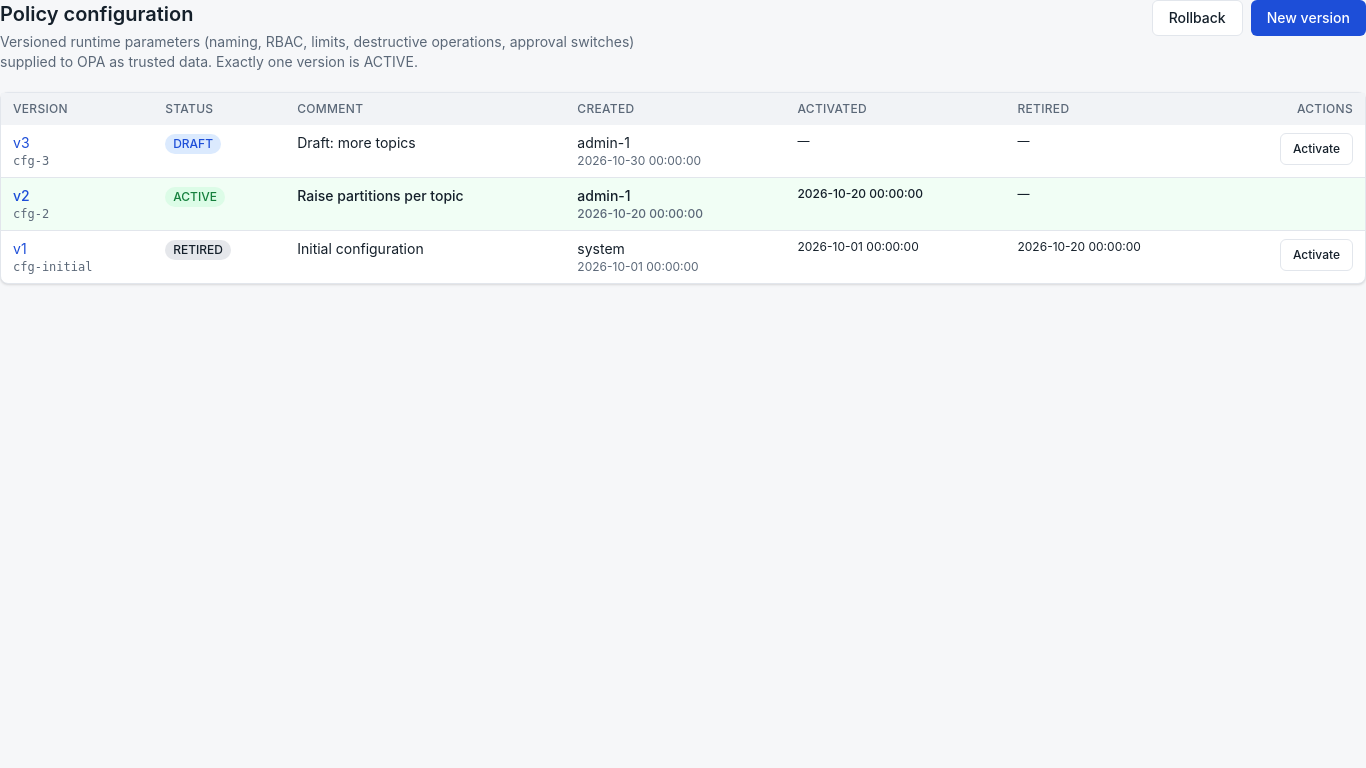
PolicyConfigPage › lets an admin activate a draft after reviewing the diff
This screenshot has width=1366, height=768.
Expected: the link "v3" is shown, left=13, top=134, right=30, bottom=151
Click the button "Activate" in the row of "cfg-3" at [1316, 149], box left=1280, top=133, right=1353, bottom=165
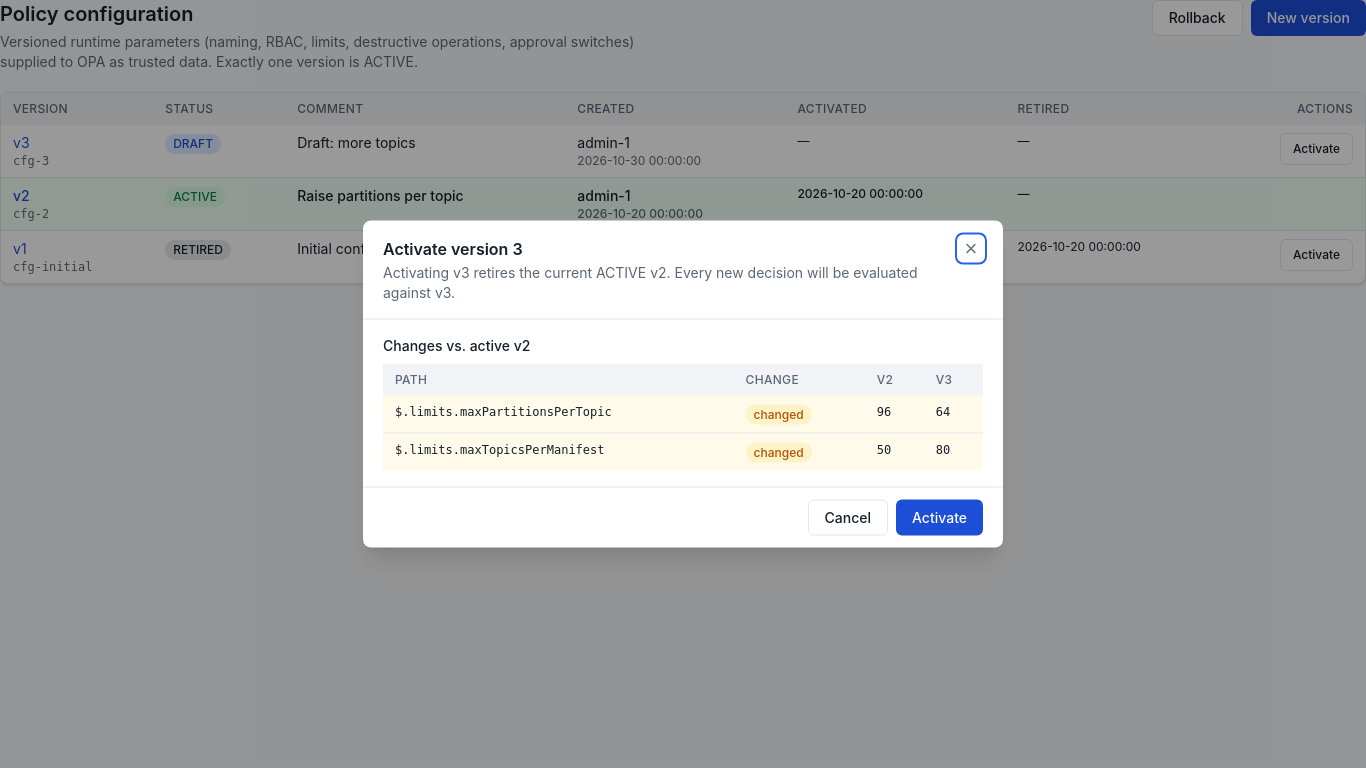
Expected: the text "retires the current ACTIVE v2" is shown, left=383, top=264, right=918, bottom=300
Expected: the text "$.limits.maxPartitionsPerTopic" is shown, left=383, top=396, right=734, bottom=433
Expected: the text "$.limits.maxTopicsPerManifest" is shown, left=383, top=433, right=734, bottom=470
Click the button "Activate" at [940, 518], box left=896, top=500, right=983, bottom=536
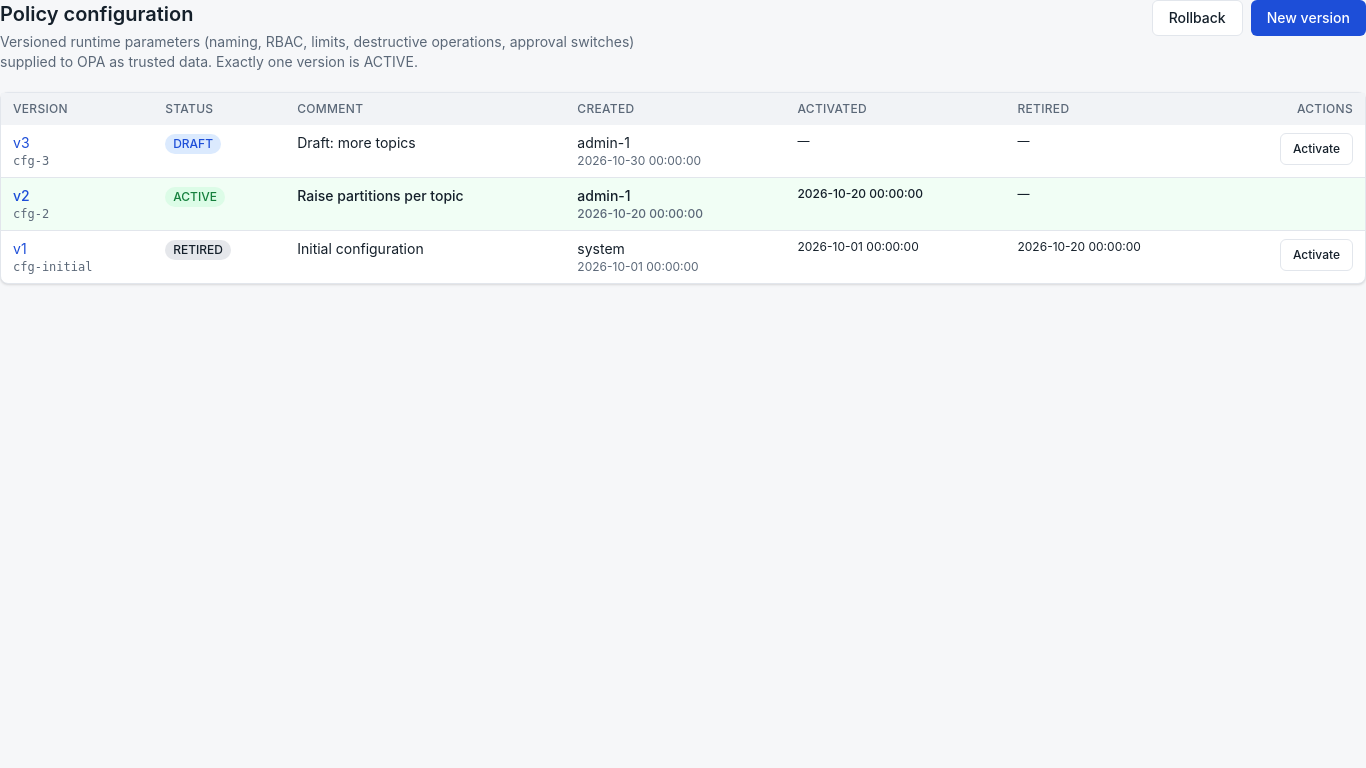
Expected: the dialog is gone
